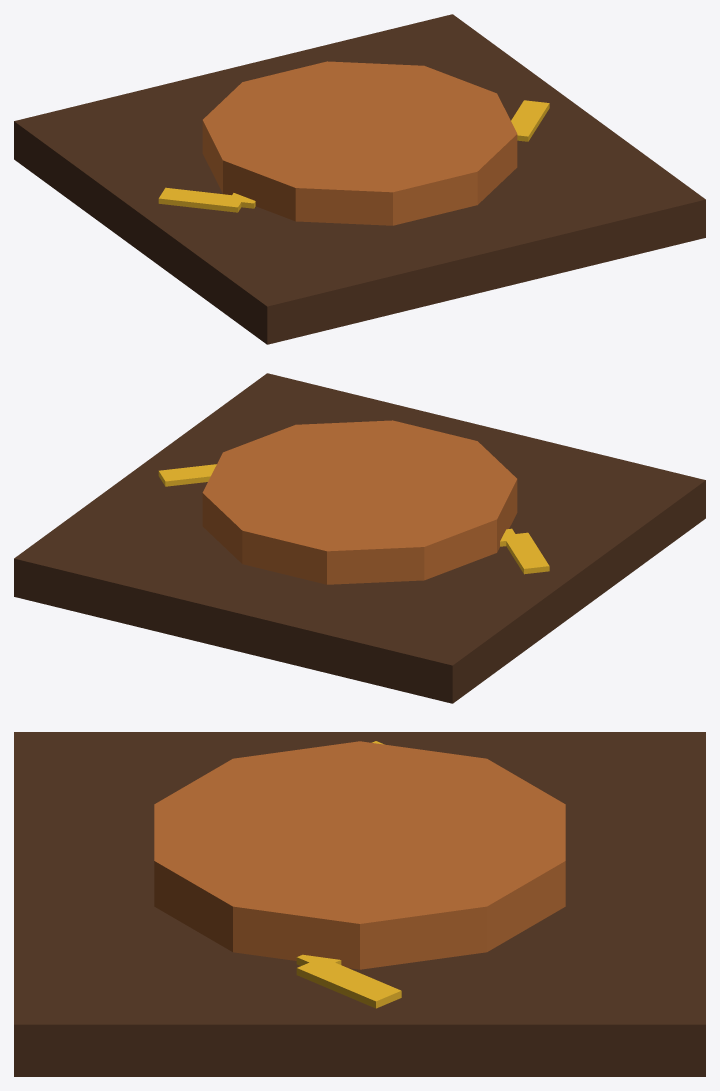
Rendered from robotic_arm.obj.
3 views of the same model, one above another, from view 1: azimuth 30°, elevation 25°; view 2: azimuth 150°, elevation 25°; view 3: azimuth 270°, elevation 25° (orthographic). The views are drawn at different scales.
Visible parts, largest first — view 1: Body, Arrows; view 2: Body, Arrows; view 3: Body, Arrows.
Part boxes in pixels (x1,y1,x2,y2): Body: (14,14,705,344); Arrows: (158,100,549,212); Body: (14,373,705,703); Arrows: (158,464,549,574); Body: (14,732,705,1076); Arrows: (296,741,401,1008).
Bounding box in the file's own units: 0.96 × 0.15 × 0.96.
